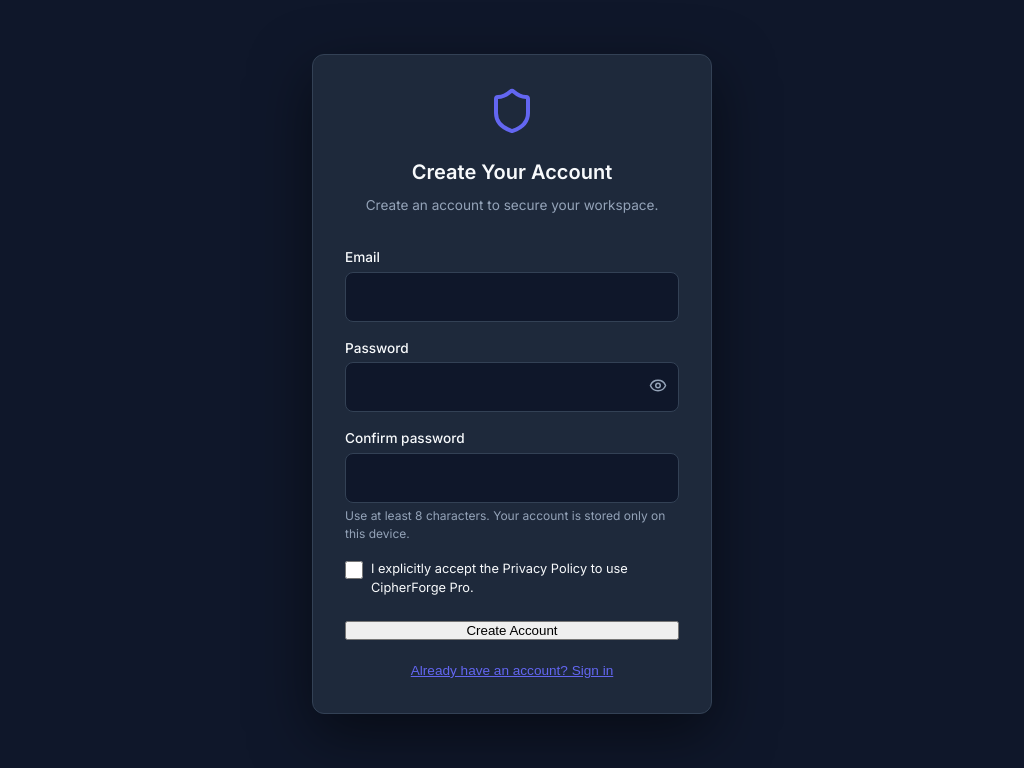
LoginScreen account creation › blocks registration without consent using the exact policy message
The image size is (1024, 768).
Step 1. Type "ada@example.com" into the field labelled "Email" → [512, 297], box [345,272,679,322]
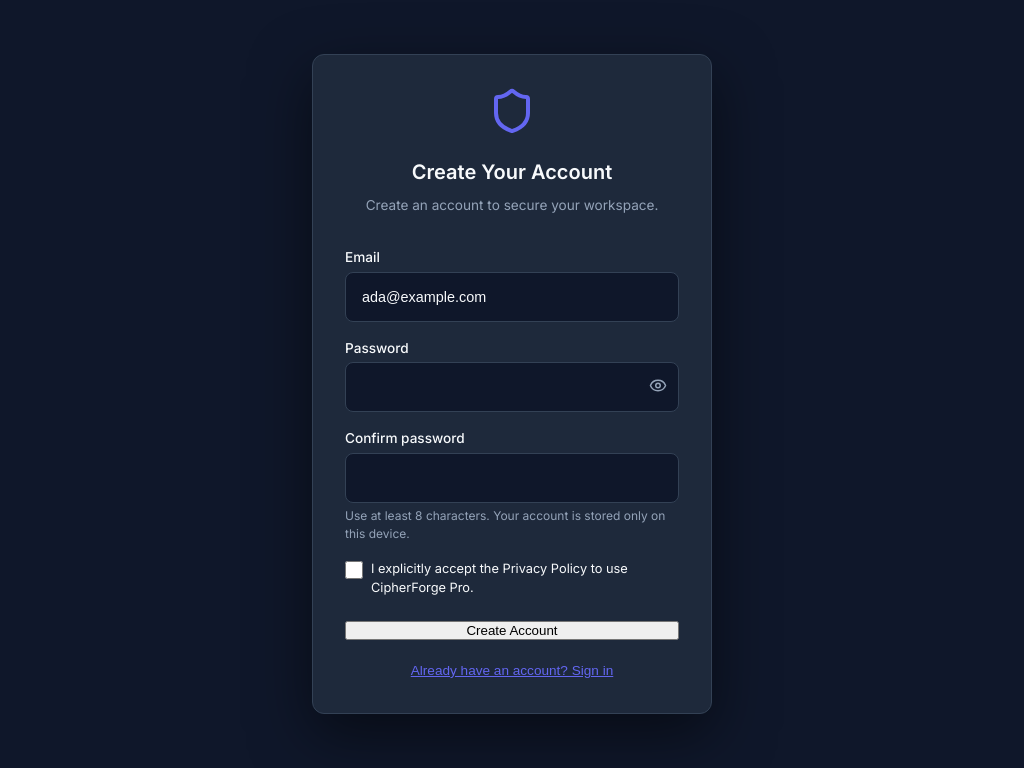
Step 2. Type "correct-horse-battery-staple" into the password field labelled "Password" → [512, 387], box [345,362,679,412]
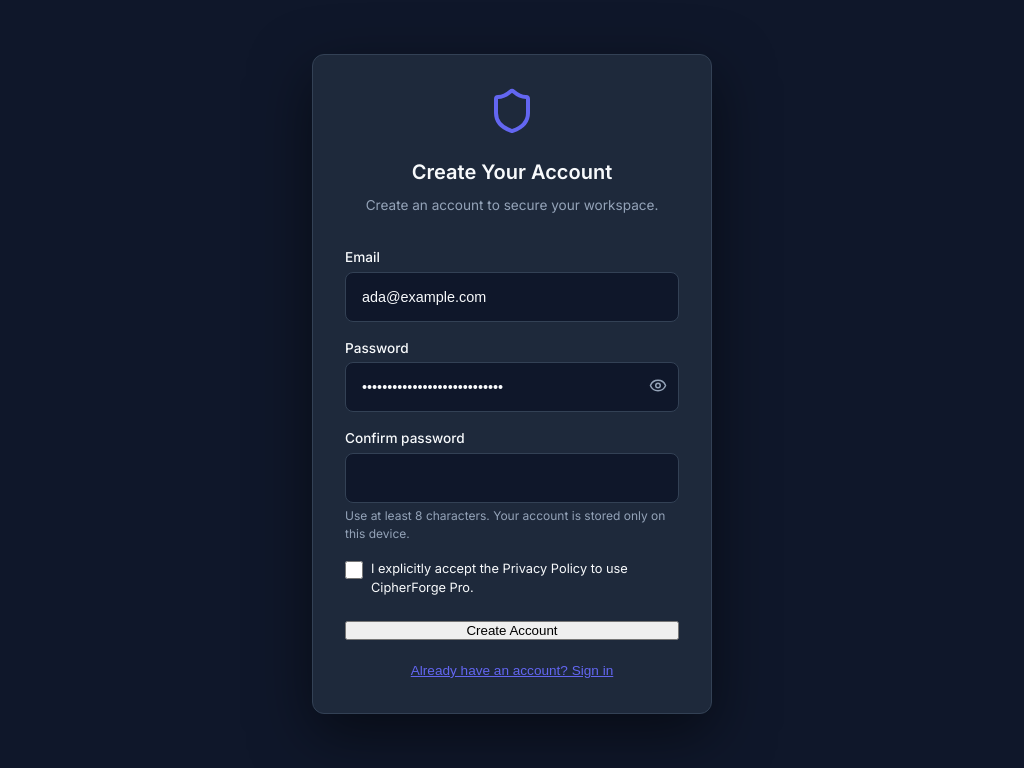
Step 3. Type "correct-horse-battery-staple" into the password field labelled "Confirm password" → [512, 478], box [345,453,679,503]
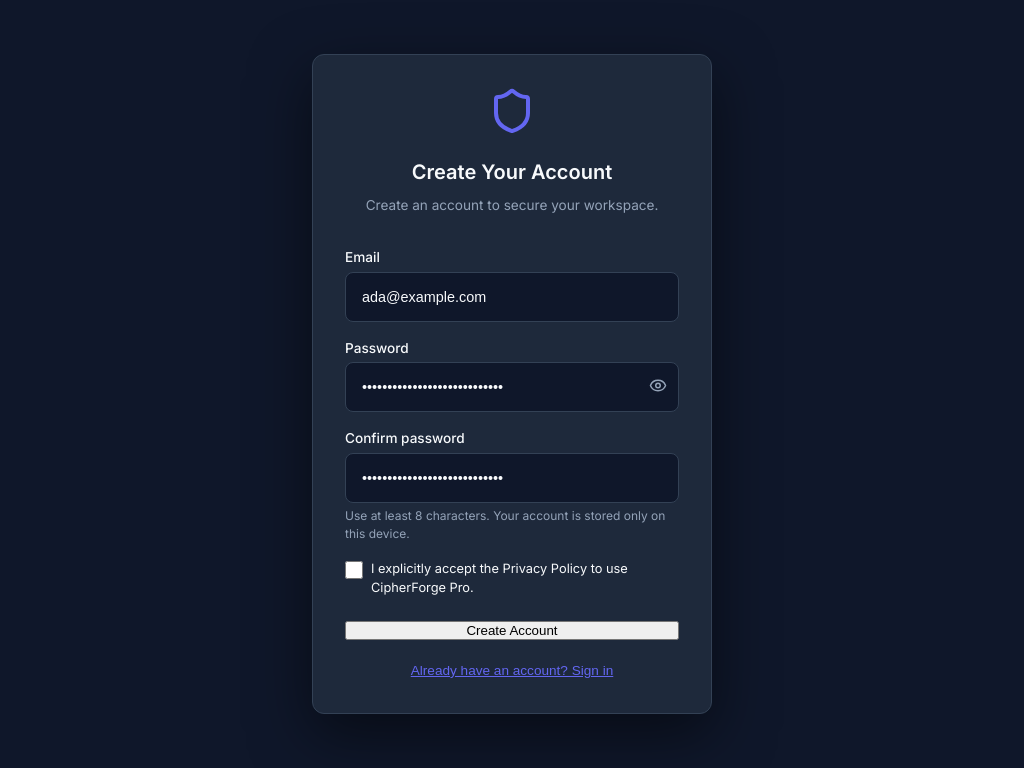
Step 4. Submit the form labelled "Email", box [345,247,679,681]
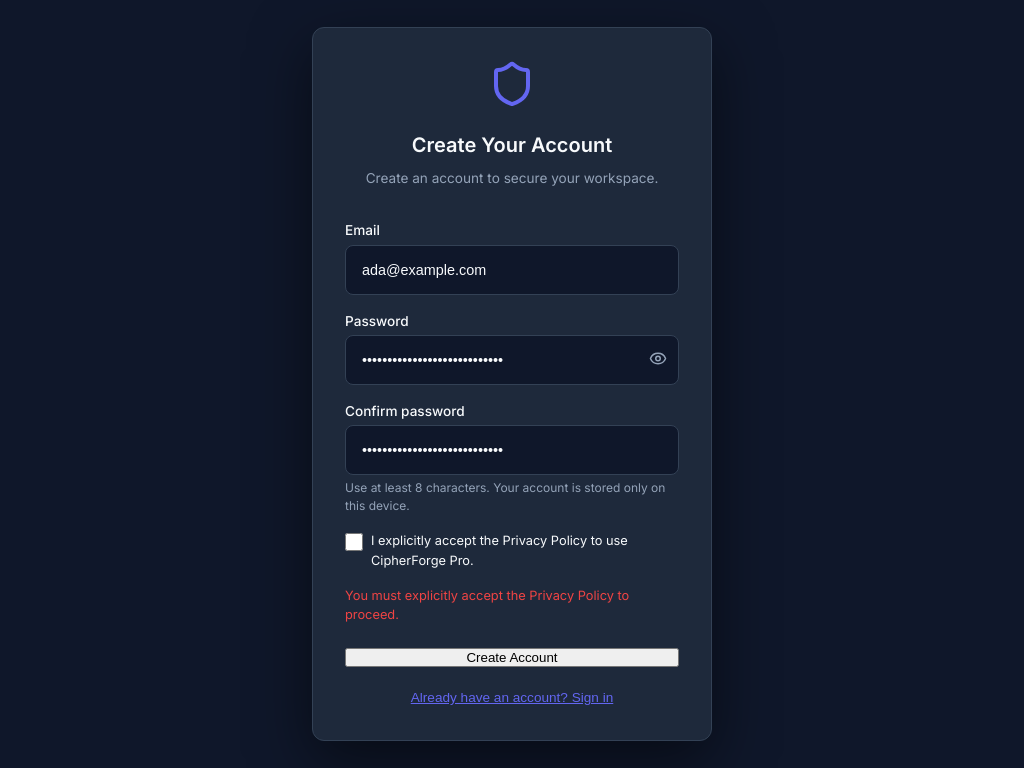
Expected: the message reads "You must explicitly accept the Privacy Policy to proceed.", [345,588,629,622]
